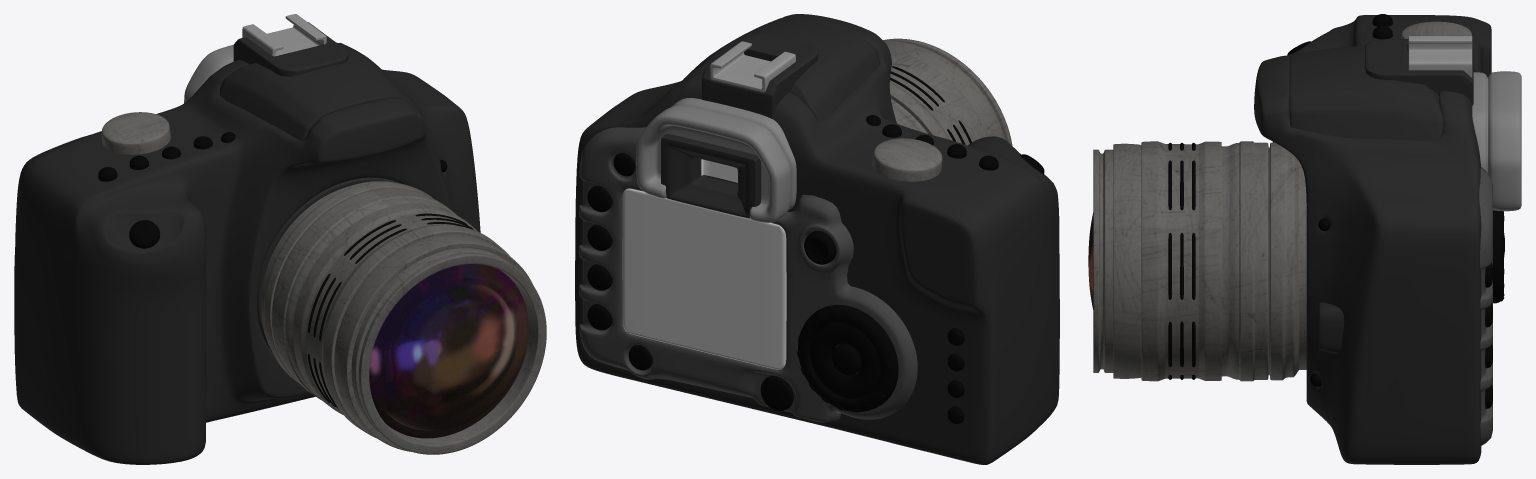
File: camera.glb
The picture shows the model from 3 angles, left to right: view 1: azimuth 30°, elevation 25°; view 2: azimuth 150°, elevation 25°; view 3: azimuth 270°, elevation 25°; orthographic projection. The views are drawn at different scales.
Visible parts, largest first — view 1: DSLR Camera.Shape; view 2: DSLR Camera.Shape; view 3: DSLR Camera.Shape.
Boxes of the visible parts, bbox=[...] form: DSLR Camera.Shape: bbox=[14, 14, 546, 464]; DSLR Camera.Shape: bbox=[575, 14, 1059, 464]; DSLR Camera.Shape: bbox=[1088, 14, 1521, 464].
Bounding box in the file's own units: 0.1454 × 0.1102 × 0.1261.
Materials: 12 (3 with a texture image).
